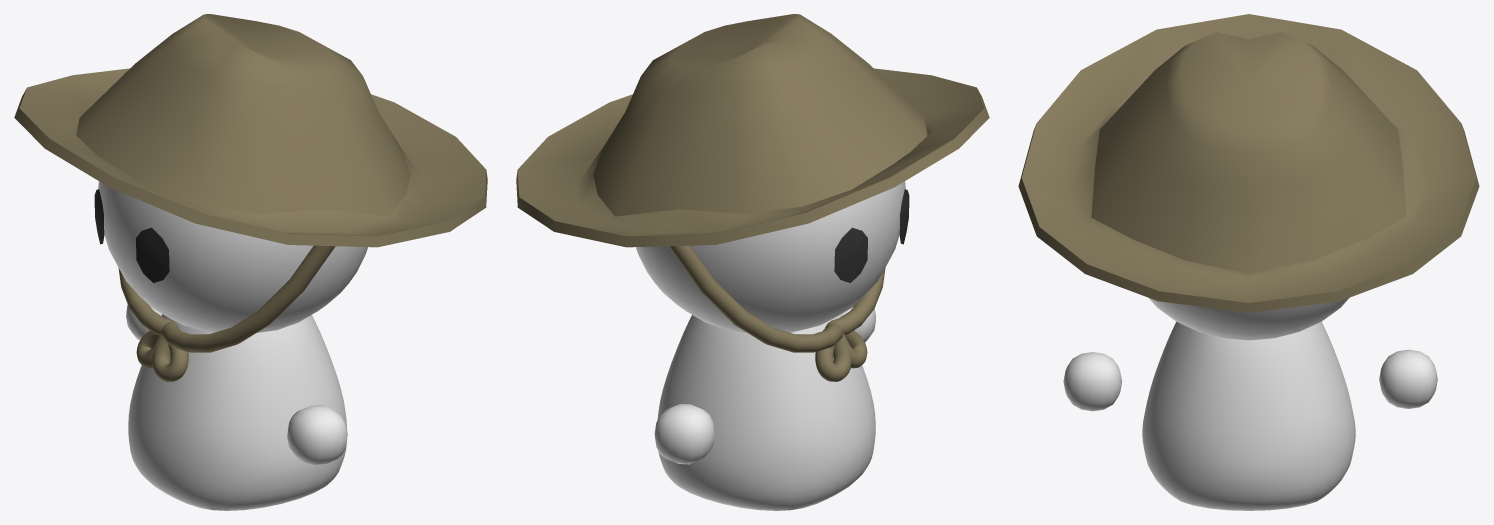
File: Adventurer.fbx
The picture shows the model from 3 angles, left to right: view 1: azimuth 30°, elevation 25°; view 2: azimuth 150°, elevation 25°; view 3: azimuth 270°, elevation 25°; orthographic projection. The views are drawn at different scales.
Parts seen in each view (by area): view 1: Sphere, Circle.001, BézierCurve, Circle.002; view 2: Sphere, Circle.001, BézierCurve, Circle.002; view 3: Sphere, Circle.001.
Boxes of the visible parts, x1,y1,x2,y2 form: Sphere: [14, 14, 487, 247]; Circle.001: [98, 181, 368, 510]; BézierCurve: [118, 245, 335, 381]; Circle.002: [94, 189, 169, 282]; Sphere: [516, 14, 989, 247]; Circle.001: [635, 181, 905, 510]; BézierCurve: [668, 245, 885, 381]; Circle.002: [834, 189, 909, 282]; Sphere: [1018, 14, 1479, 312]; Circle.001: [1063, 297, 1437, 510].
Size of the model in its own units: 259 by 274 by 257.
